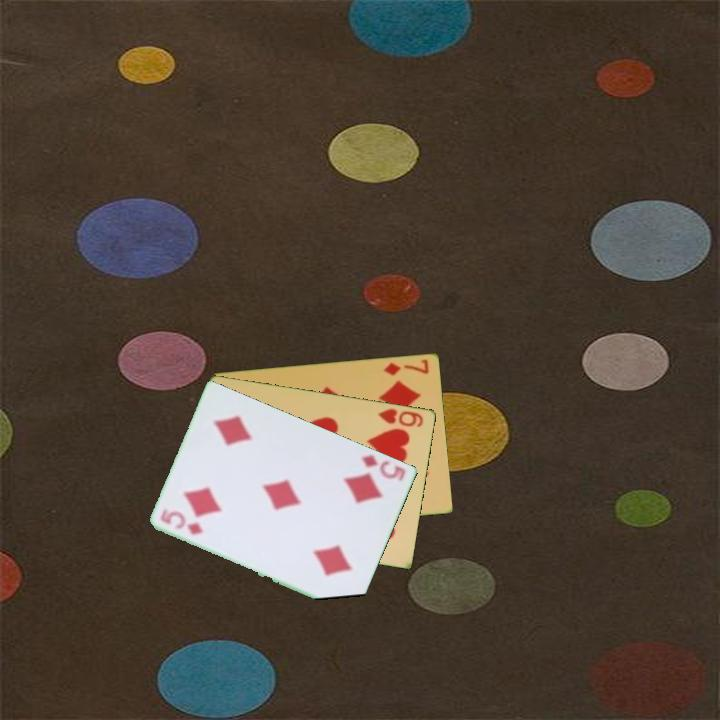5d: (359, 450, 409, 484), (157, 507, 207, 538)
6h: (375, 405, 427, 430)
7d: (380, 355, 432, 378)
